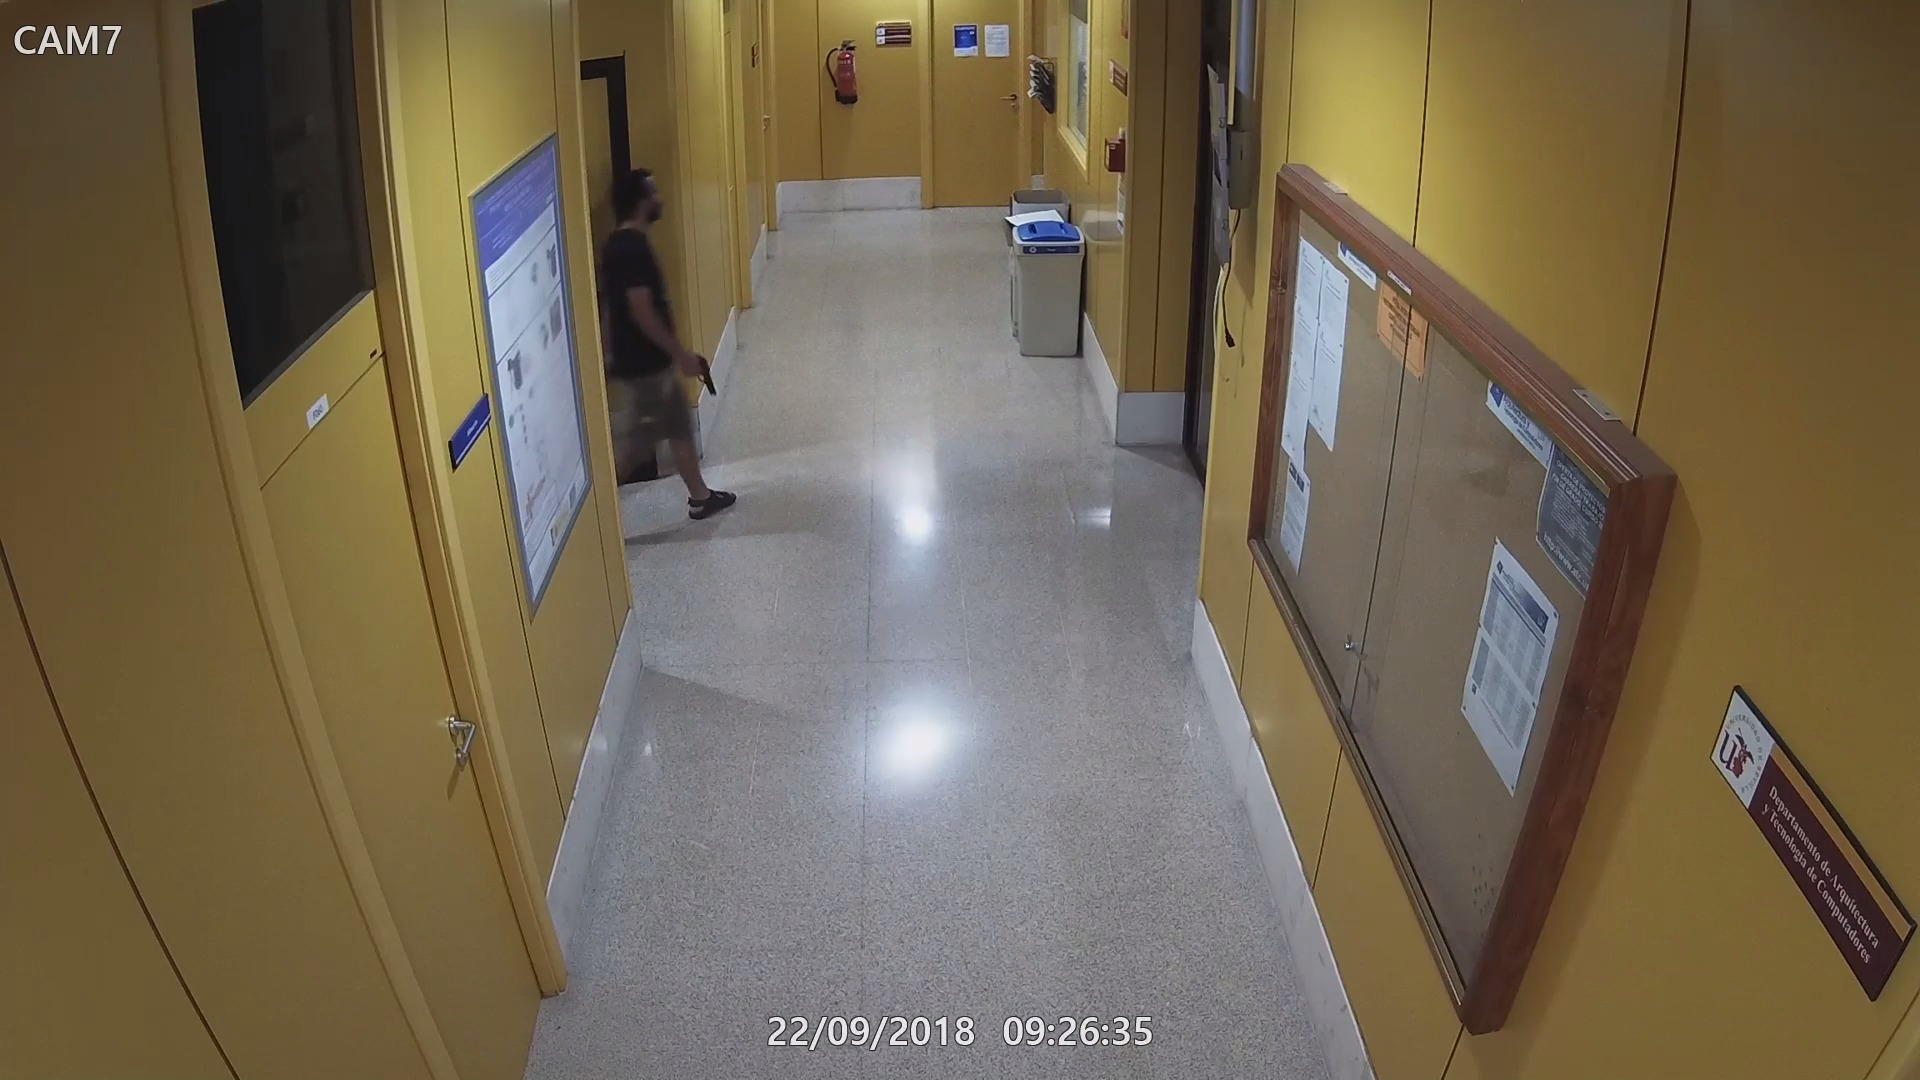Handgun: (676, 345, 716, 396)
